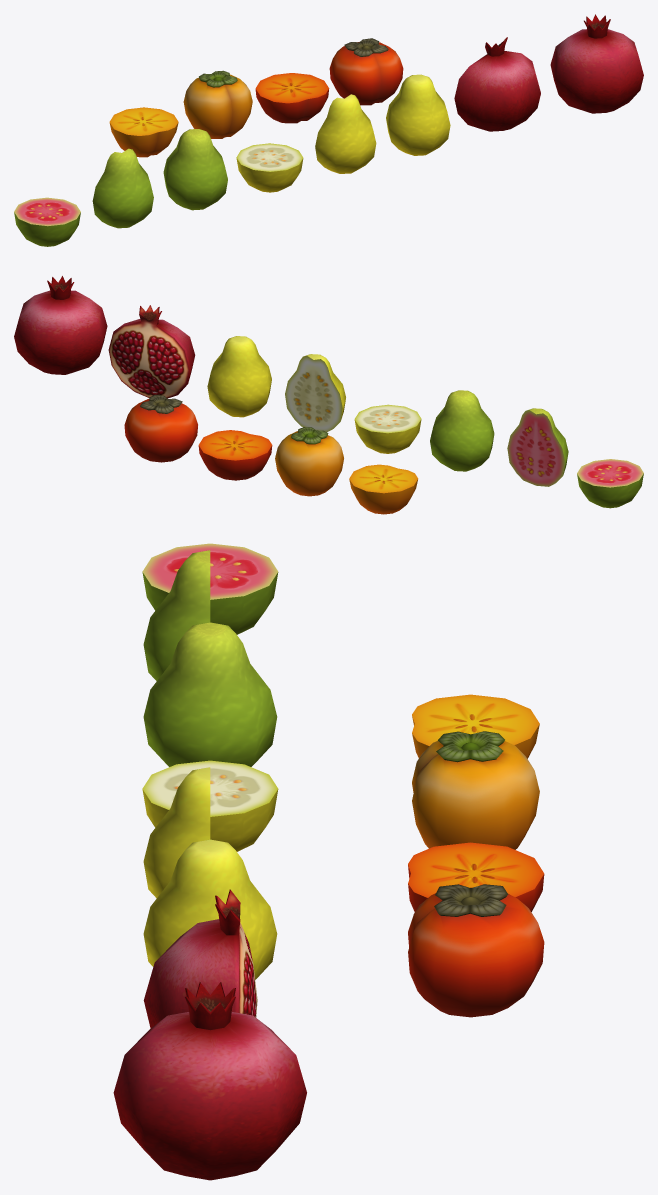
The model's file is Delicious Fruitfbx.fbx.
3 views of the same model, one above another, from view 1: azimuth 30°, elevation 25°; view 2: azimuth 150°, elevation 25°; view 3: azimuth 270°, elevation 25° (orthographic). The views are drawn at different scales.
Visible parts, largest first — view 1: Pomegranate, Pomegranate_Half, Guava_Yellow, Guava, Persimmon_Red, Persimmon_Yellow, Guava_Half_01, Guava_Yellow_Half_01, Persimmon_Red_Half, Persimmon_Yellow_Half, Guava_Yellow_Half_02, Guava_Half_02; view 2: Pomegranate, Pomegranate_Half, Guava, Guava_Yellow, Persimmon_Red, Persimmon_Yellow, Guava_Half_01, Guava_Yellow_Half_01, Persimmon_Red_Half, Persimmon_Yellow_Half, Guava_Yellow_Half_02, Guava_Half_02; view 3: Pomegranate, Persimmon_Red, Guava, Persimmon_Yellow, Guava_Yellow, Pomegranate_Half, Guava_Half_02, Guava_Yellow_Half_02, Persimmon_Red_Half, Persimmon_Yellow_Half, Guava_Half_01, Guava_Yellow_Half_01.
Part boxes in pixels (bbox=[...]): Pomegranate: bbox=[550, 14, 643, 113]; Pomegranate_Half: bbox=[454, 37, 540, 131]; Guava_Yellow: bbox=[386, 74, 450, 155]; Guava: bbox=[163, 129, 227, 210]; Persimmon_Red: bbox=[329, 38, 403, 105]; Persimmon_Yellow: bbox=[183, 70, 252, 138]; Guava_Half_01: bbox=[92, 148, 153, 228]; Guava_Yellow_Half_01: bbox=[315, 94, 376, 173]; Persimmon_Red_Half: bbox=[255, 73, 329, 123]; Persimmon_Yellow_Half: bbox=[109, 107, 178, 157]; Guava_Yellow_Half_02: bbox=[236, 143, 303, 192]; Guava_Half_02: bbox=[14, 197, 80, 246]; Pomegranate: bbox=[14, 276, 107, 374]; Pomegranate_Half: bbox=[108, 305, 195, 398]; Guava: bbox=[430, 390, 494, 471]; Guava_Yellow: bbox=[207, 336, 271, 417]; Persimmon_Red: bbox=[124, 394, 197, 462]; Persimmon_Yellow: bbox=[275, 427, 343, 496]; Guava_Half_01: bbox=[507, 408, 568, 486]; Guava_Yellow_Half_01: bbox=[285, 354, 345, 432]; Persimmon_Red_Half: bbox=[198, 430, 272, 480]; Persimmon_Yellow_Half: bbox=[349, 464, 418, 514]; Guava_Yellow_Half_02: bbox=[354, 404, 421, 453]; Guava_Half_02: bbox=[577, 459, 643, 508]; Pomegranate: bbox=[113, 982, 306, 1180]; Persimmon_Red: bbox=[408, 884, 544, 1017]; Guava: bbox=[143, 622, 277, 766]; Persimmon_Yellow: bbox=[412, 731, 539, 849]; Guava_Yellow: bbox=[143, 839, 277, 979]; Pomegranate_Half: bbox=[143, 889, 257, 1028]; Guava_Half_02: bbox=[142, 543, 278, 634]; Guava_Yellow_Half_02: bbox=[142, 760, 278, 851]; Persimmon_Red_Half: bbox=[408, 842, 544, 911]; Persimmon_Yellow_Half: bbox=[412, 694, 539, 758]; Guava_Half_01: bbox=[143, 550, 210, 681]; Guava_Yellow_Half_01: bbox=[143, 767, 210, 898].
Size of the model in its own units: 293 by 40.34 by 88.06.
4 materials, 4 textured.
